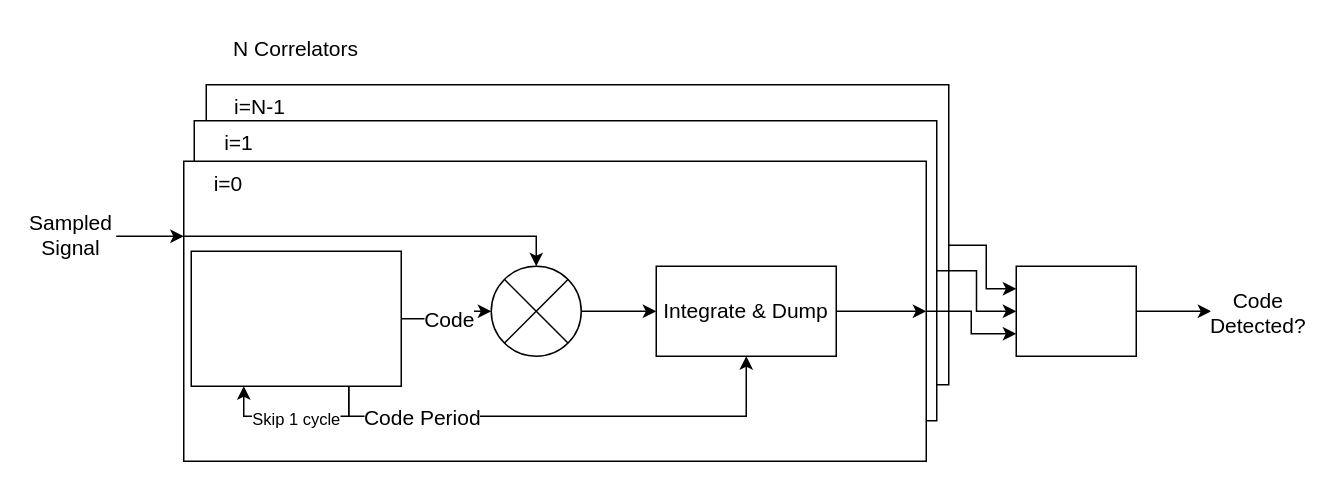
The diagram is 1331 pixels wide and 488 high, and some of its shapes have lost their labels. Here are the shapes that lost their labels. From the top down, the centre of each, then its label:
At point (295, 318): "Local code replica (delayed by i*CODE_LEN/N chips)".
At point (1075, 310): "New Maximum?".
